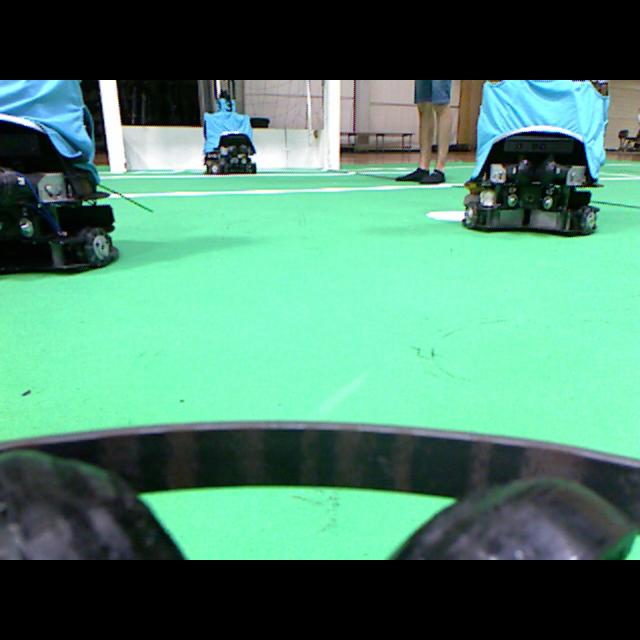goal: (99, 80, 125, 172), (323, 80, 339, 169)
